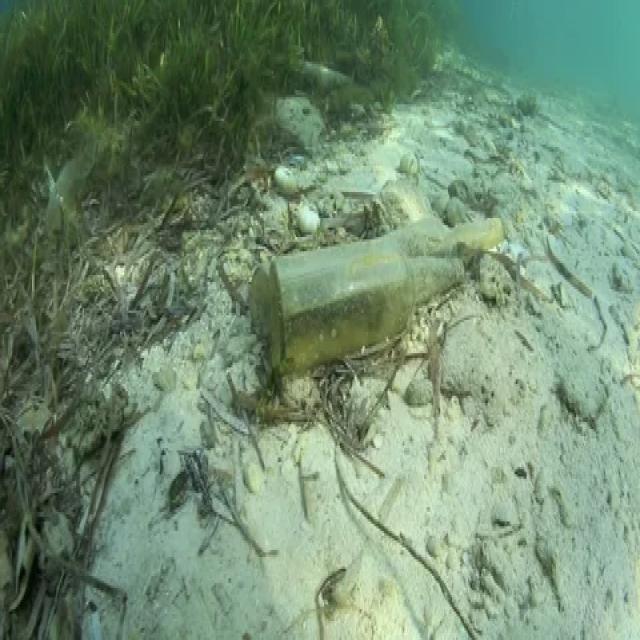Glass: (236, 208, 534, 376)
